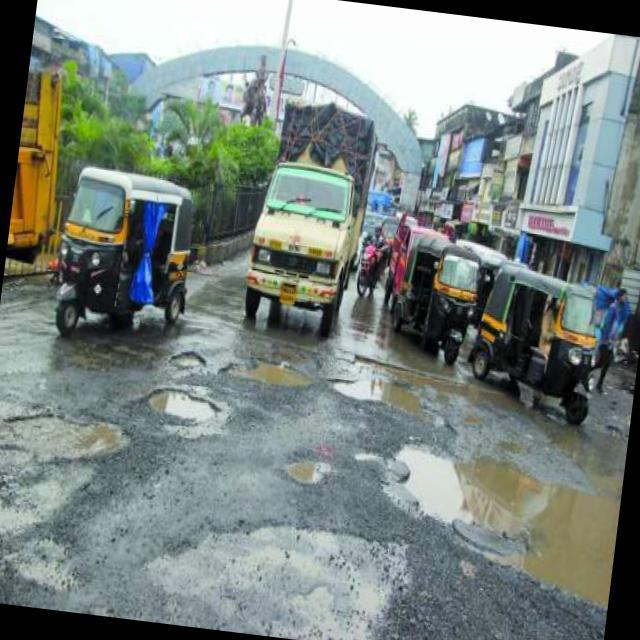Pothole: (346, 421, 626, 624), (125, 502, 423, 640), (0, 392, 137, 484), (326, 356, 436, 422), (136, 378, 226, 437), (218, 356, 316, 395), (280, 440, 334, 493), (166, 340, 210, 381)
